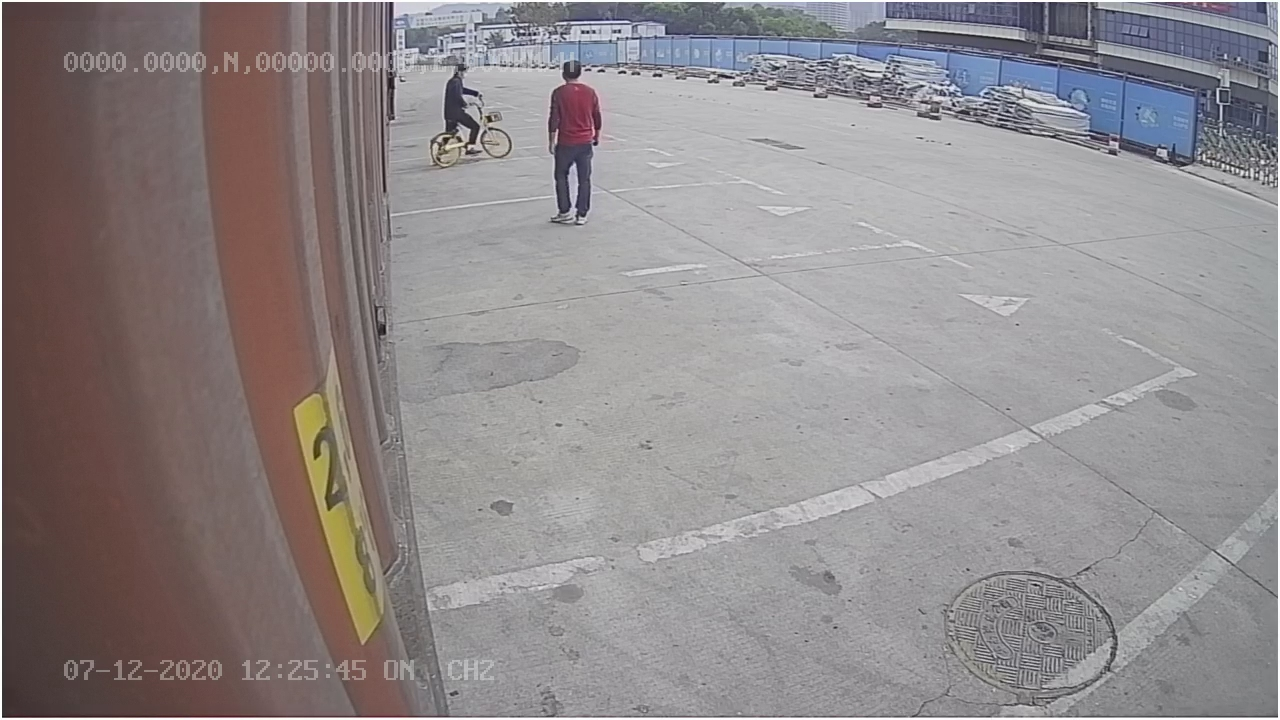person: (540, 52, 607, 232)
